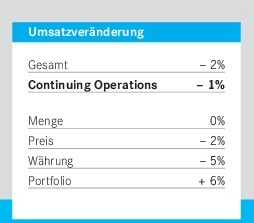table: (0, 0, 254, 223)
